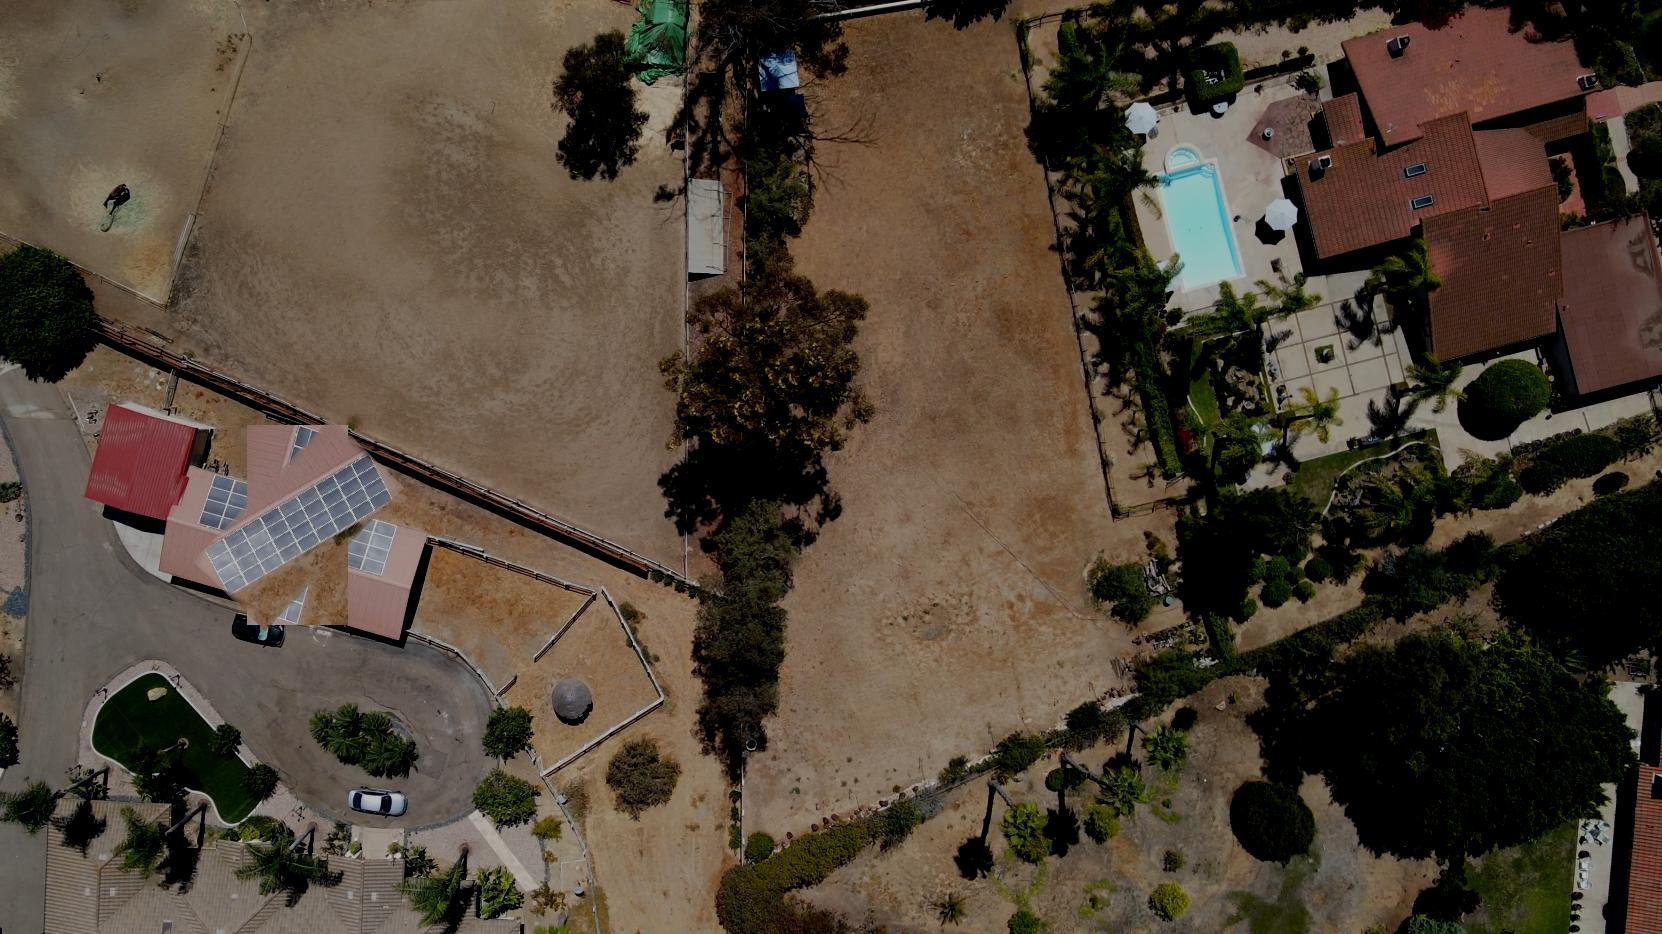solar-panels: (203, 453, 392, 596)
